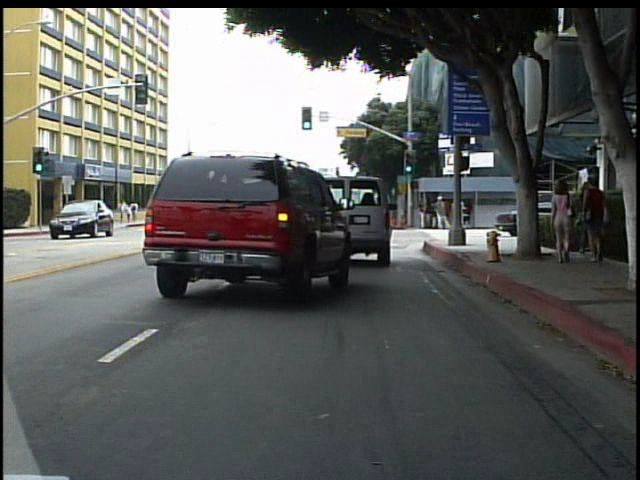person: (582, 175, 614, 266), (546, 177, 577, 268), (433, 192, 448, 231), (77, 198, 93, 226)
